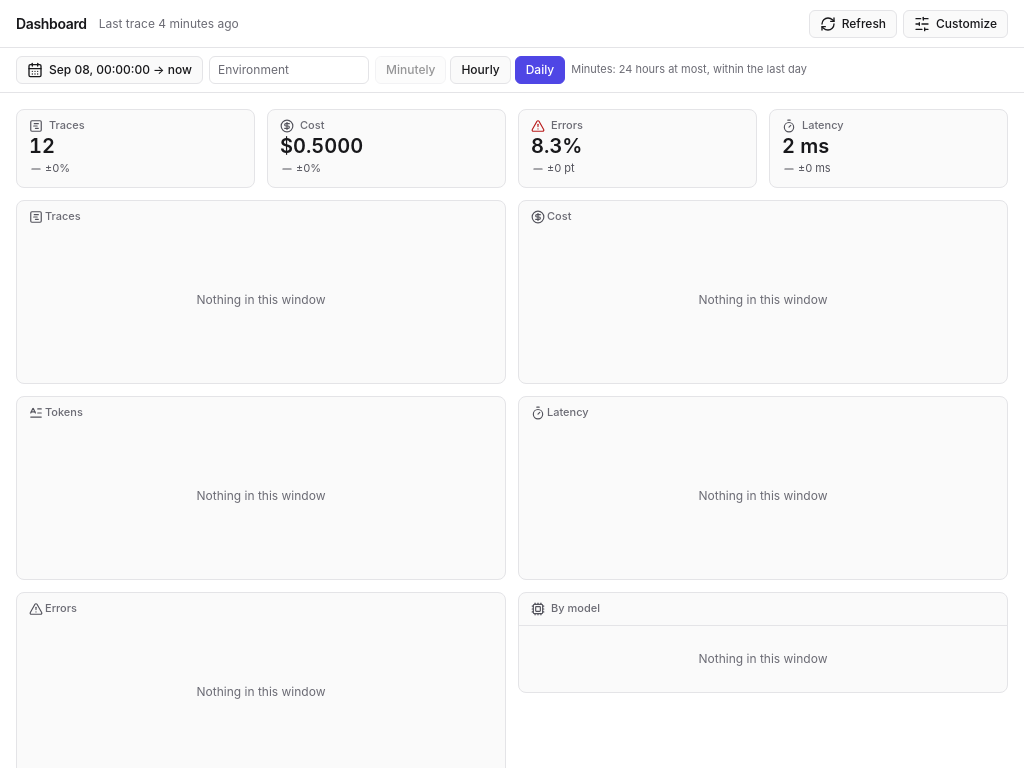
Test: Customize › keeps the arrangement on screen and shows the message when the write is refused
The width and height of the screenshot is (1024, 768).
Click the button "Customize". click: (956, 24)
box: [903,10,1008,38]
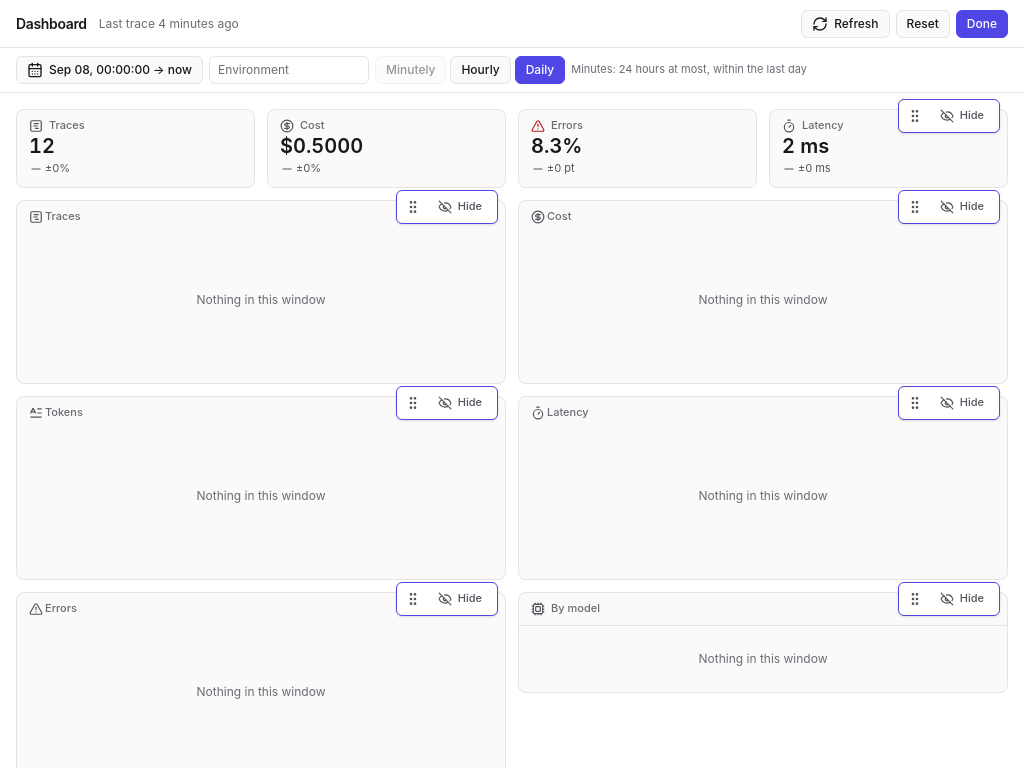
Click the button with aria-label "Hide Tokens". click: (460, 403)
box: [427,389,493,417]
(page scrolled)
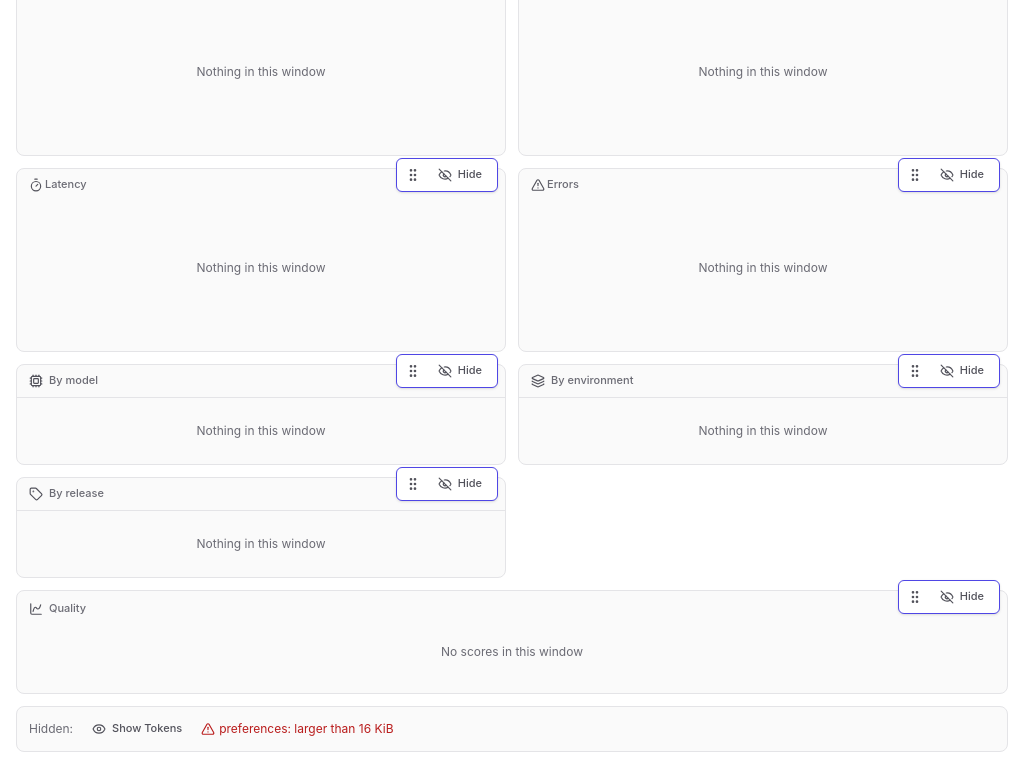
Check: the message reads "preferences: larger than 16 KiB", box [219,721,394,736]
